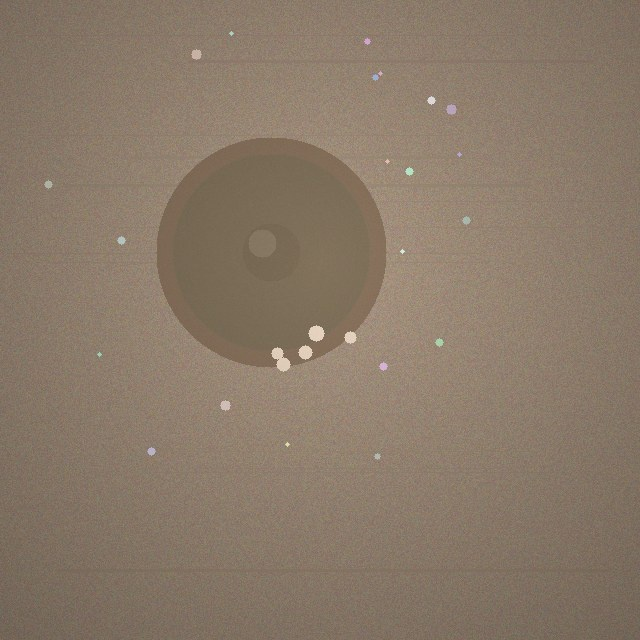overburn: (156, 137, 386, 367)
